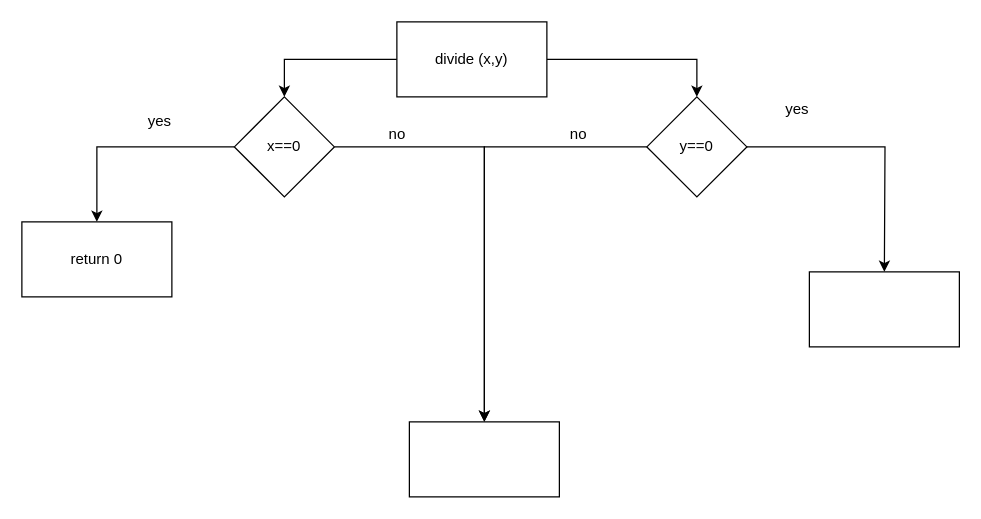
Image size: 981x519. Some labels were removed from this diagram. The centre of each missing label's shape, as x and y in pixels:
print "you cant devide by zero": pixel 883 309
result =x/y: pixel 483 459
